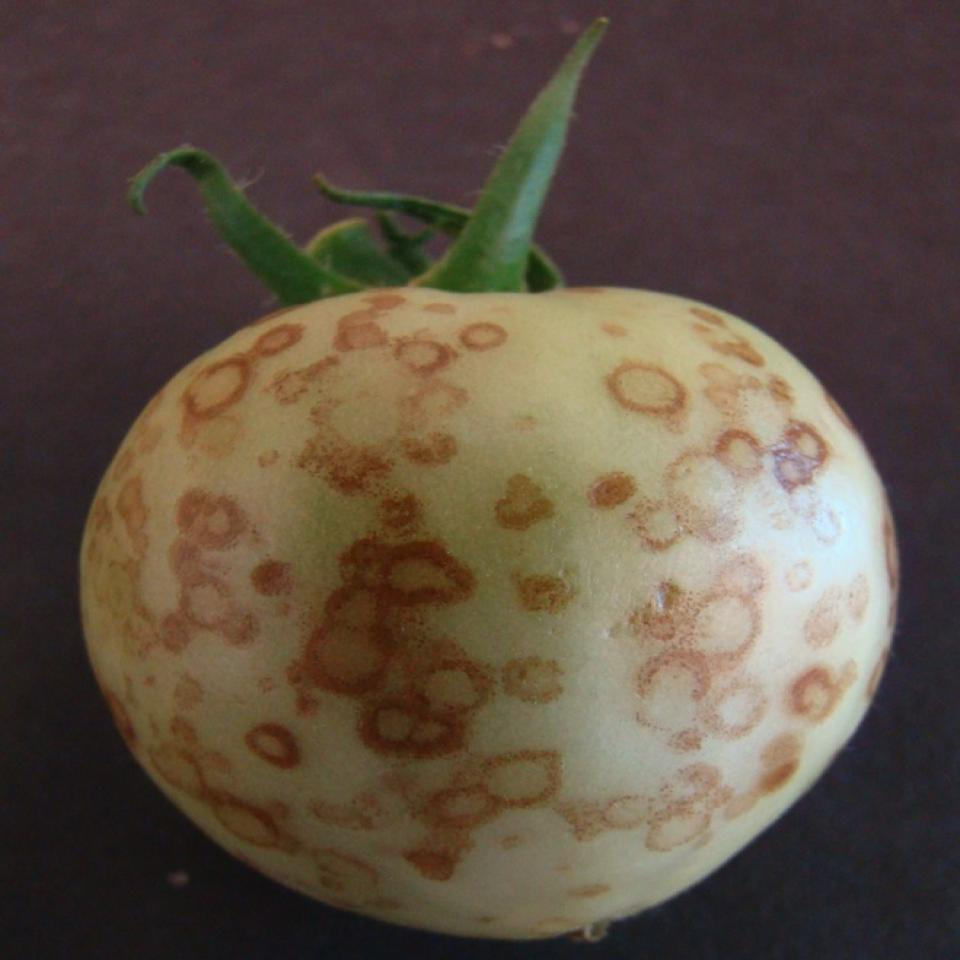Spotted wilt Virus: (71, 280, 901, 944)
